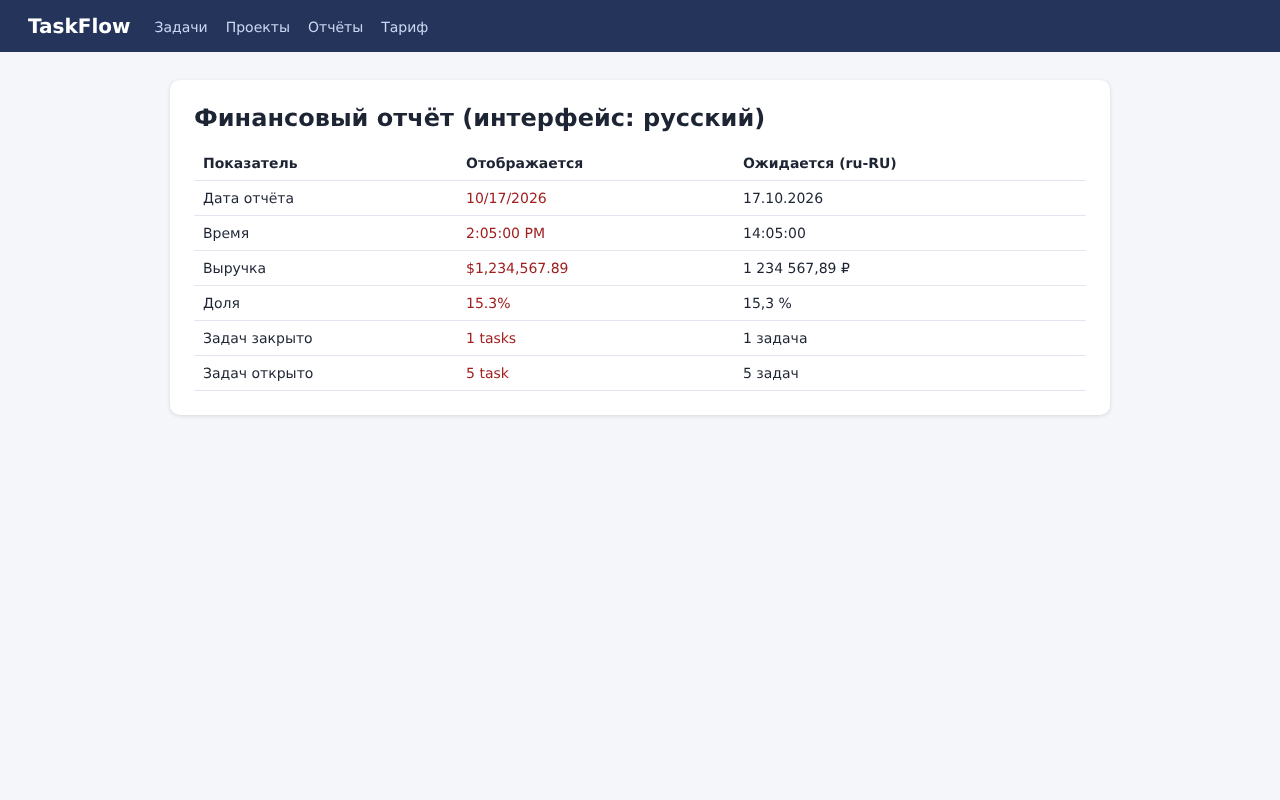DEFECT_AREA: (467, 262, 568, 275), (467, 192, 546, 205), (467, 227, 544, 239), (467, 332, 516, 344), (467, 297, 510, 309), (467, 367, 509, 379)
